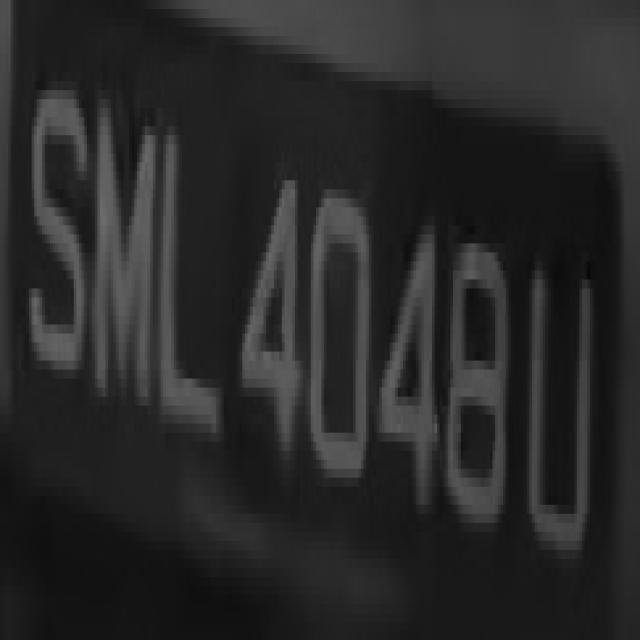0: (308, 144, 382, 523)
4: (237, 144, 303, 469), (385, 198, 445, 532)
8: (445, 189, 514, 568)
L: (164, 108, 226, 460)
M: (95, 72, 155, 460)
S: (24, 36, 90, 388)
U: (522, 225, 603, 559)
